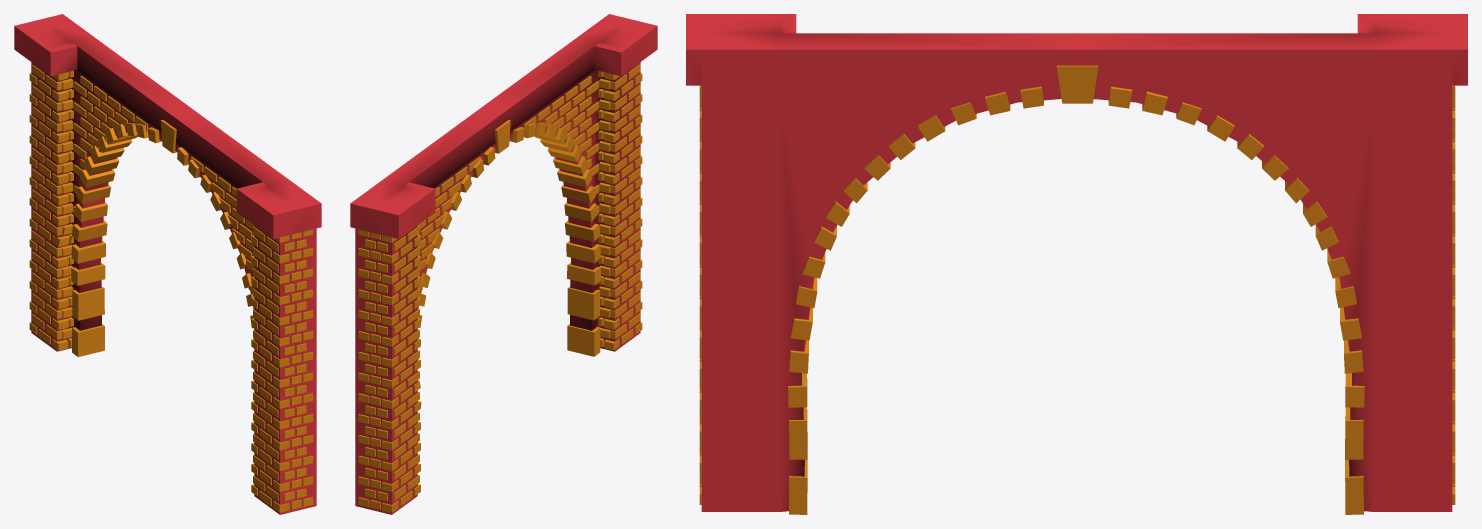
Rendered from arch2.fbx.
3 renders of one model, left to right at view 1: azimuth 30°, elevation 25°; view 2: azimuth 150°, elevation 25°; view 3: azimuth 270°, elevation 25°, orthographic. The views are drawn at different scales.
Visible parts, largest first — view 1: CircleBricks.001; view 2: CircleBricks.001; view 3: CircleBricks.001.
Boxes of the visible parts, x1,y1,x2,y2 form: CircleBricks.001: [14, 14, 321, 514]; CircleBricks.001: [350, 14, 657, 514]; CircleBricks.001: [686, 14, 1467, 514].
Size of the model in its own units: 137 by 788 by 1202.
